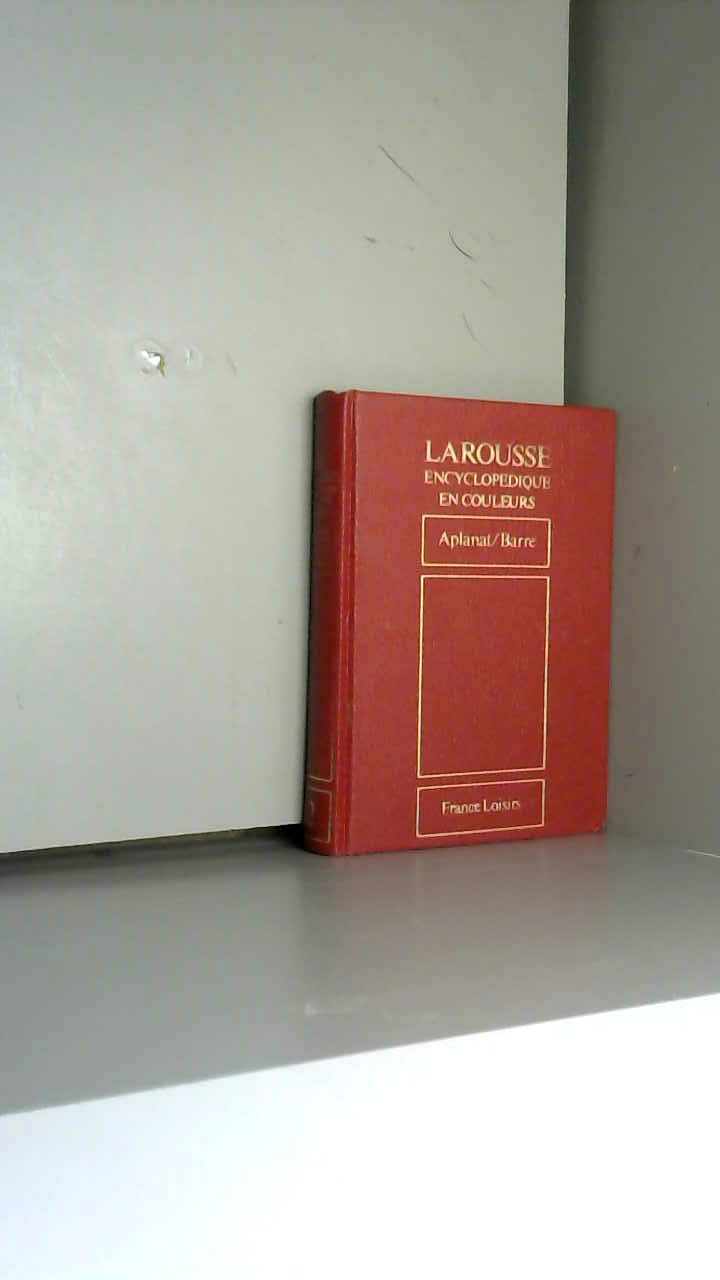book: (270, 360, 715, 876)
